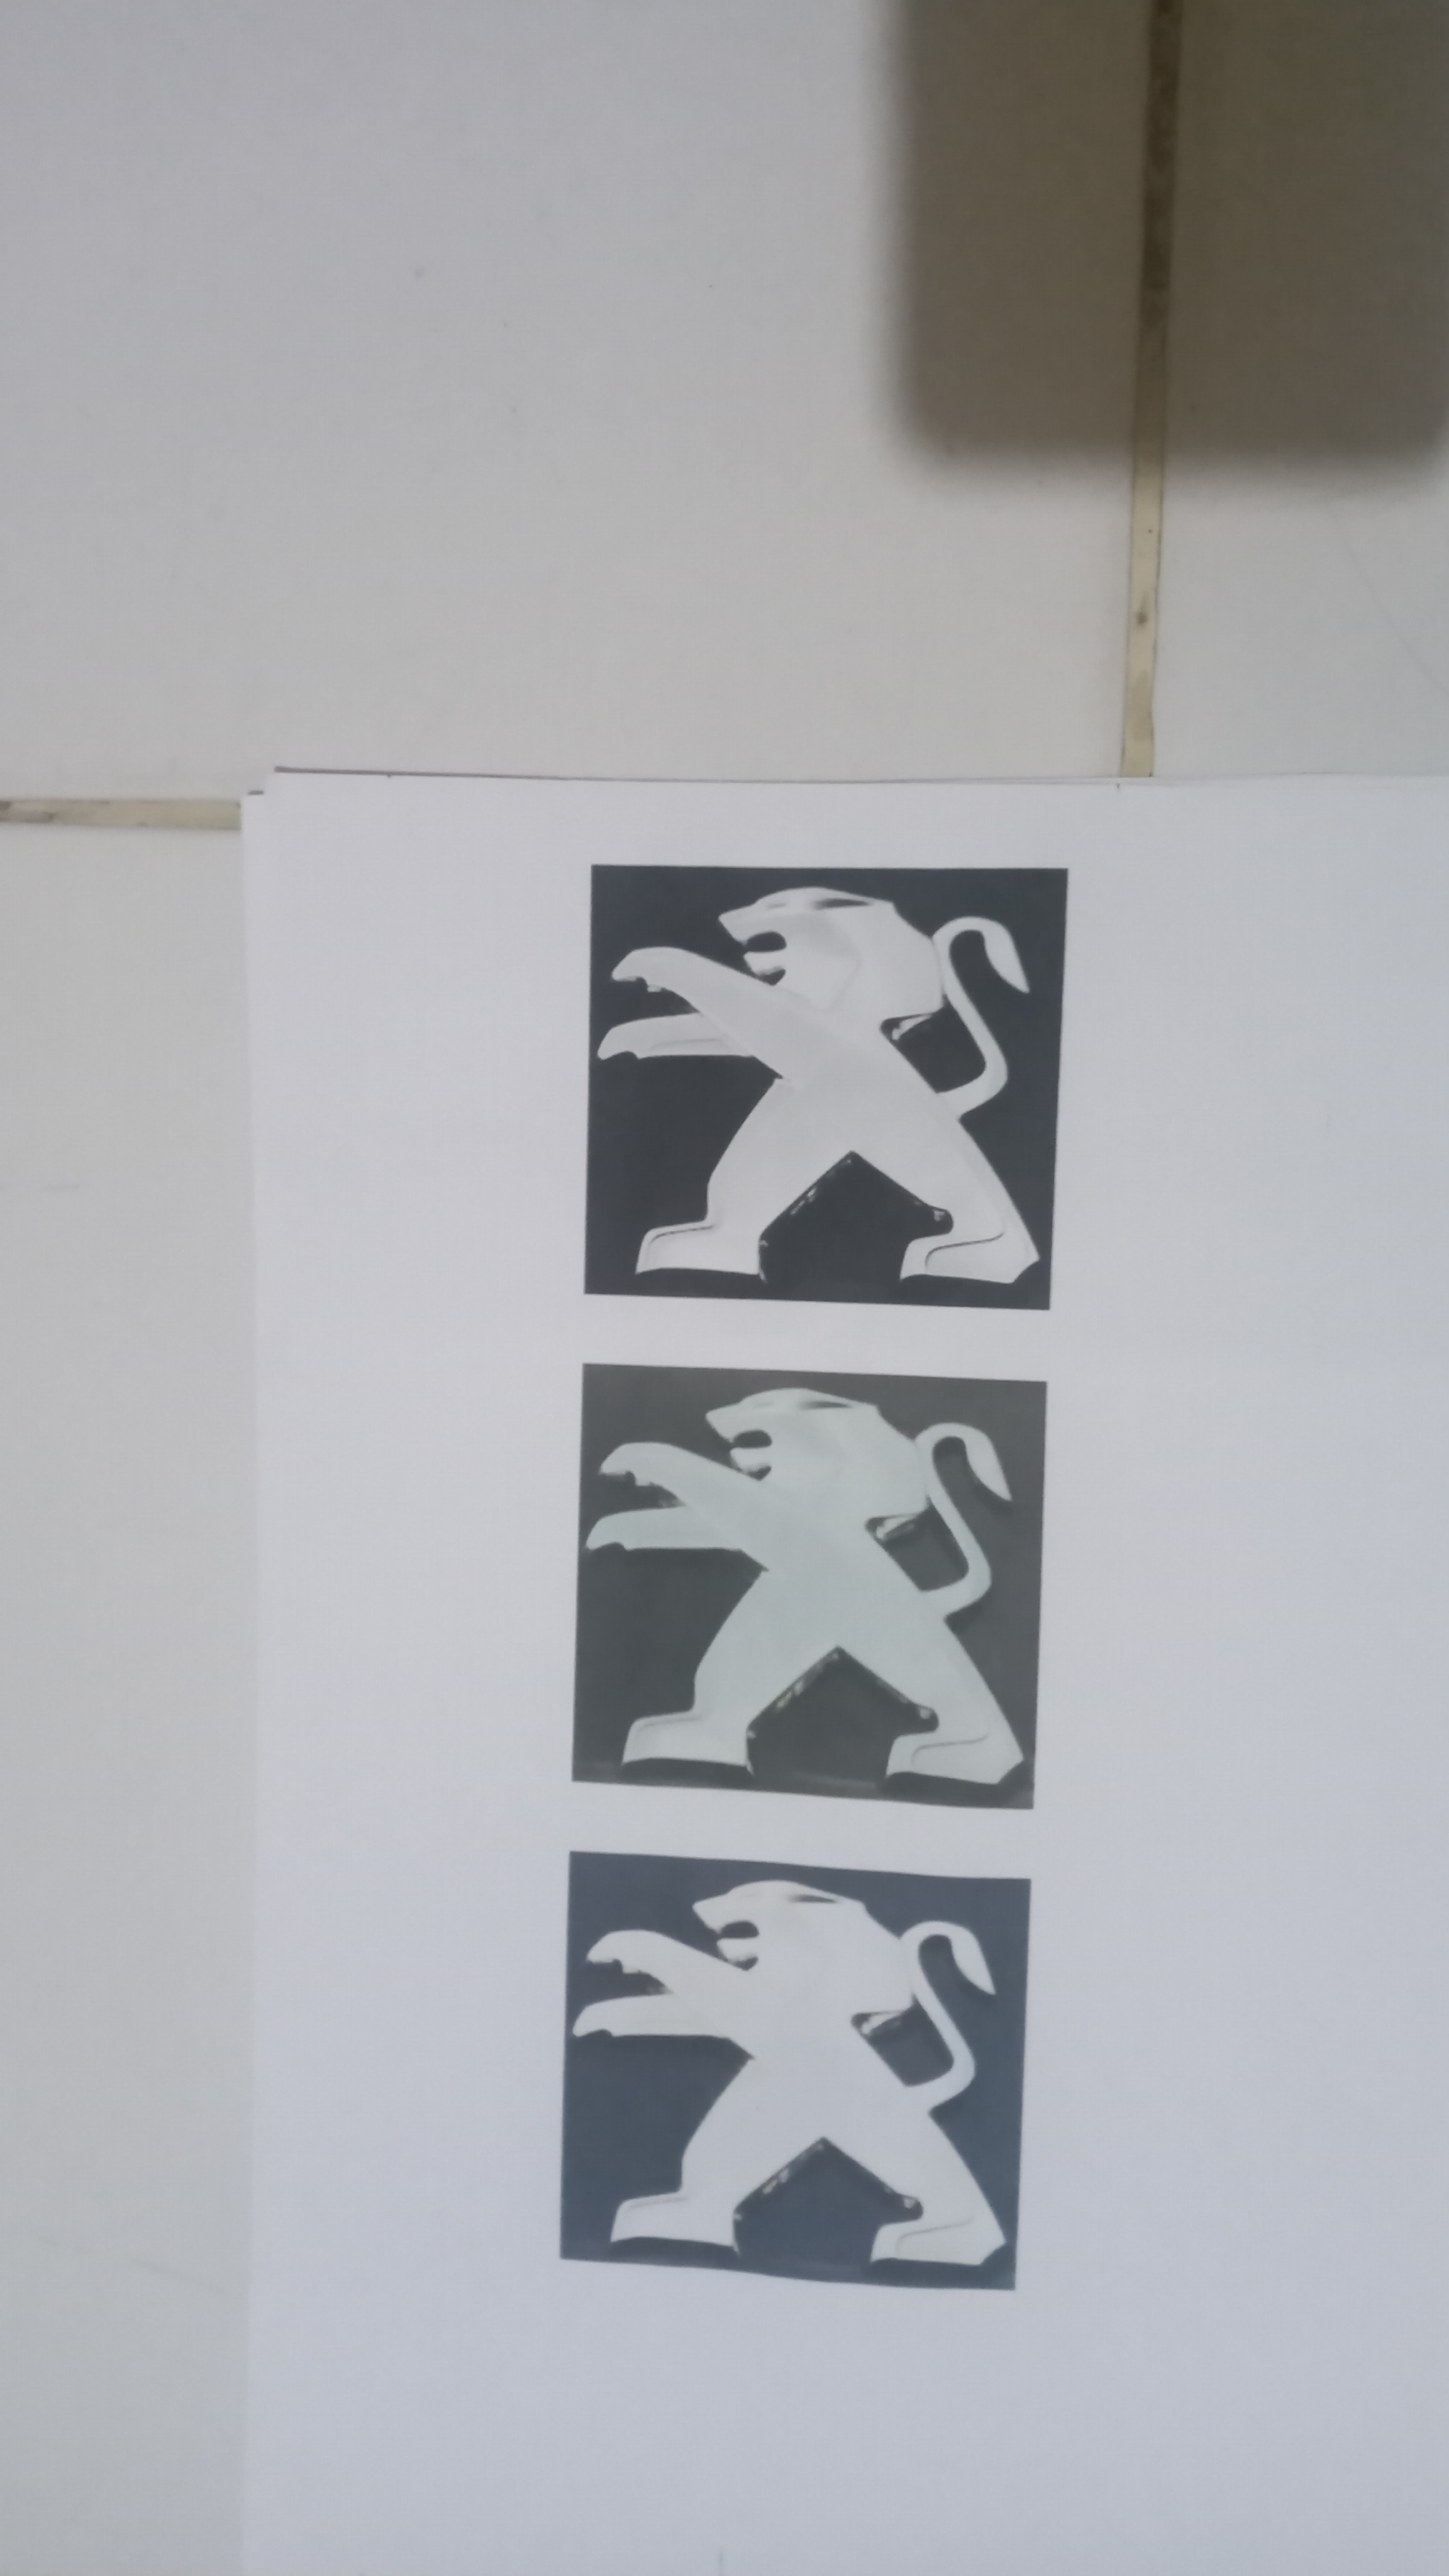Peugeot: (594, 872, 1046, 1302), (584, 1369, 1033, 1799), (566, 1858, 1019, 2282)
